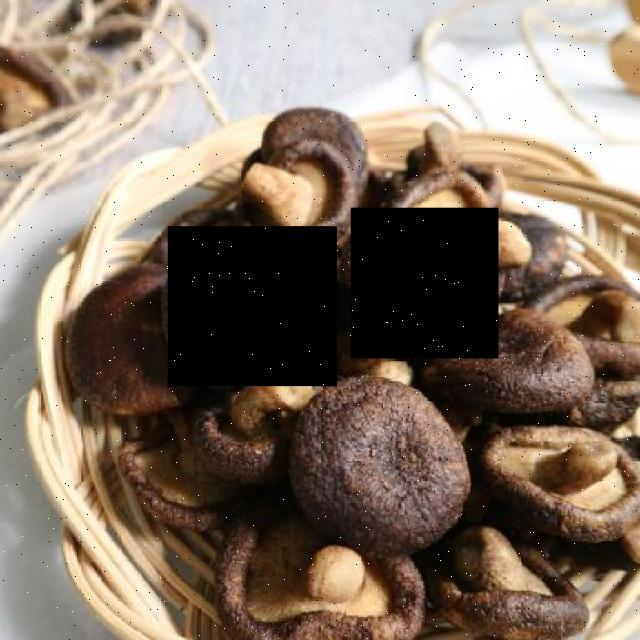Mushroom: (168, 227, 337, 387), (351, 208, 498, 358)
